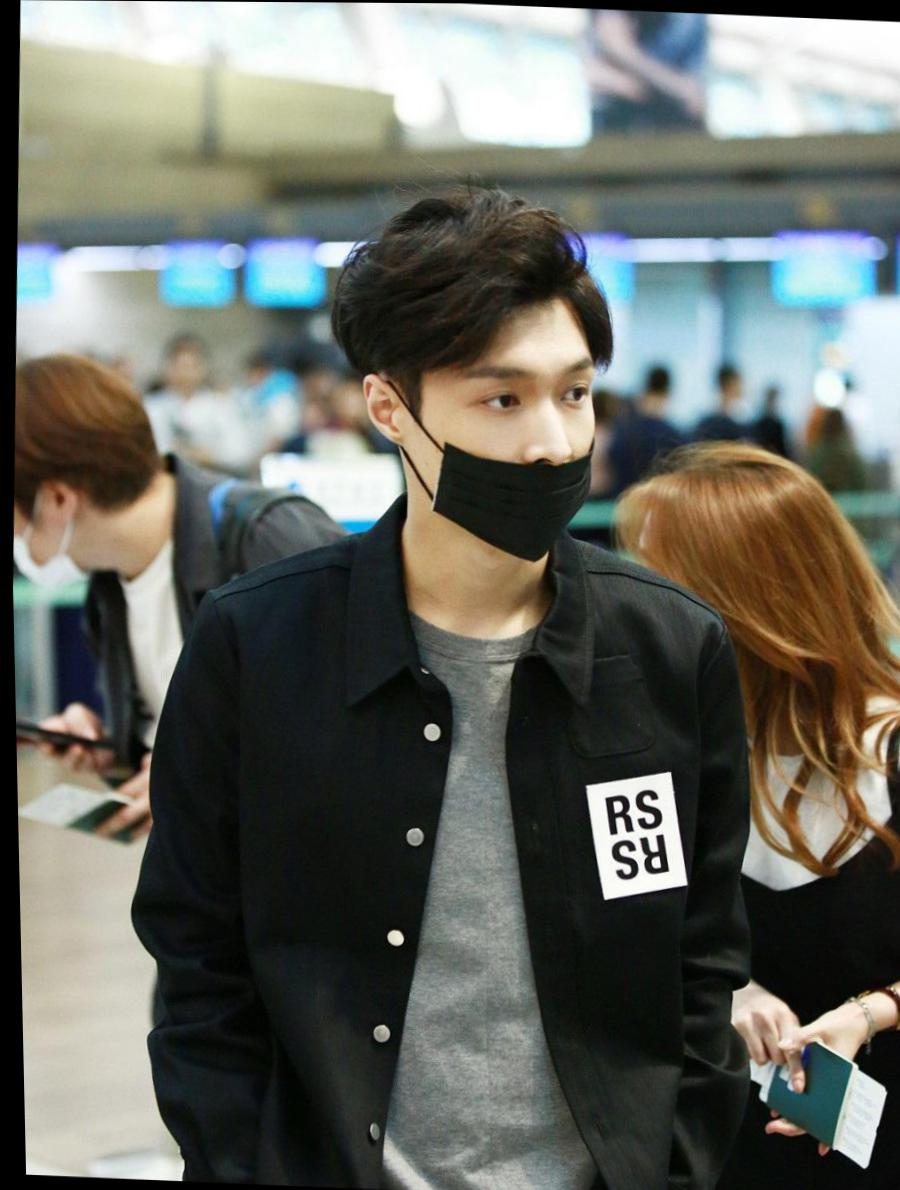WRONG: (392, 337, 617, 560)
